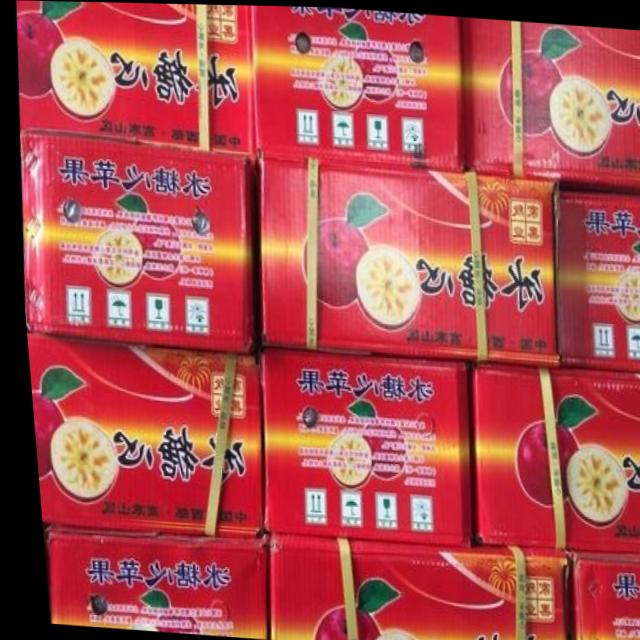box: (256, 153, 553, 360), (19, 124, 253, 343), (21, 328, 254, 536), (254, 344, 465, 543), (18, 0, 256, 158), (251, 4, 462, 171), (461, 360, 640, 550), (259, 531, 562, 640), (460, 18, 640, 183), (34, 526, 259, 635), (549, 176, 640, 366), (557, 548, 640, 640)
